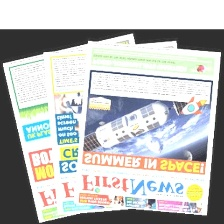news_paper: (0, 30, 146, 223), (73, 38, 224, 216), (39, 37, 182, 217)
